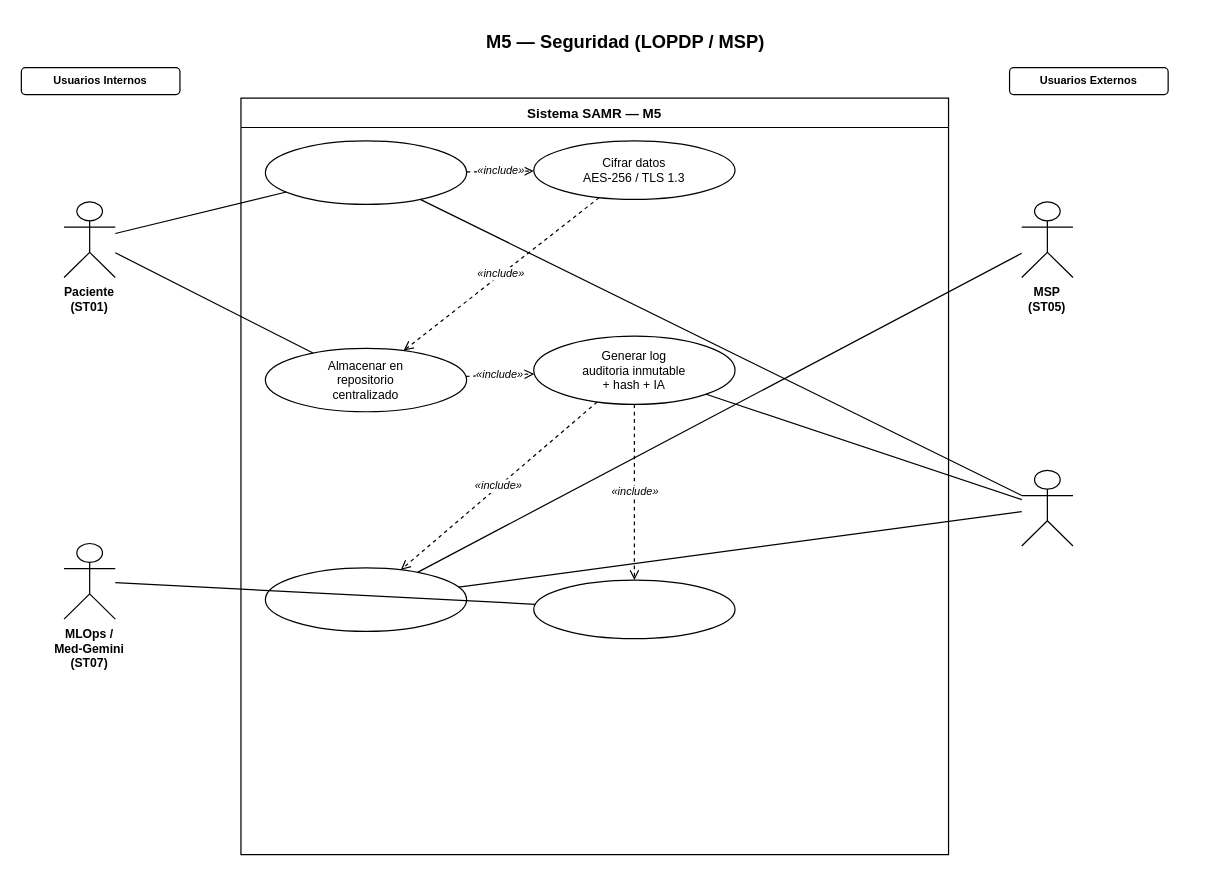
Some shapes in this 1226 by 876 pixel diagram are drawn without their labels. The centre of each missing label's shape, as x and y in pixels:
Auditar equidad de Med-Gemini: (x=634, y=609)
DPO (ST06): (x=1047, y=507)
Inspeccionar logs para certificación MSP: (x=365, y=599)
Registrar consentimiento explícito LOPDP: (x=365, y=172)
